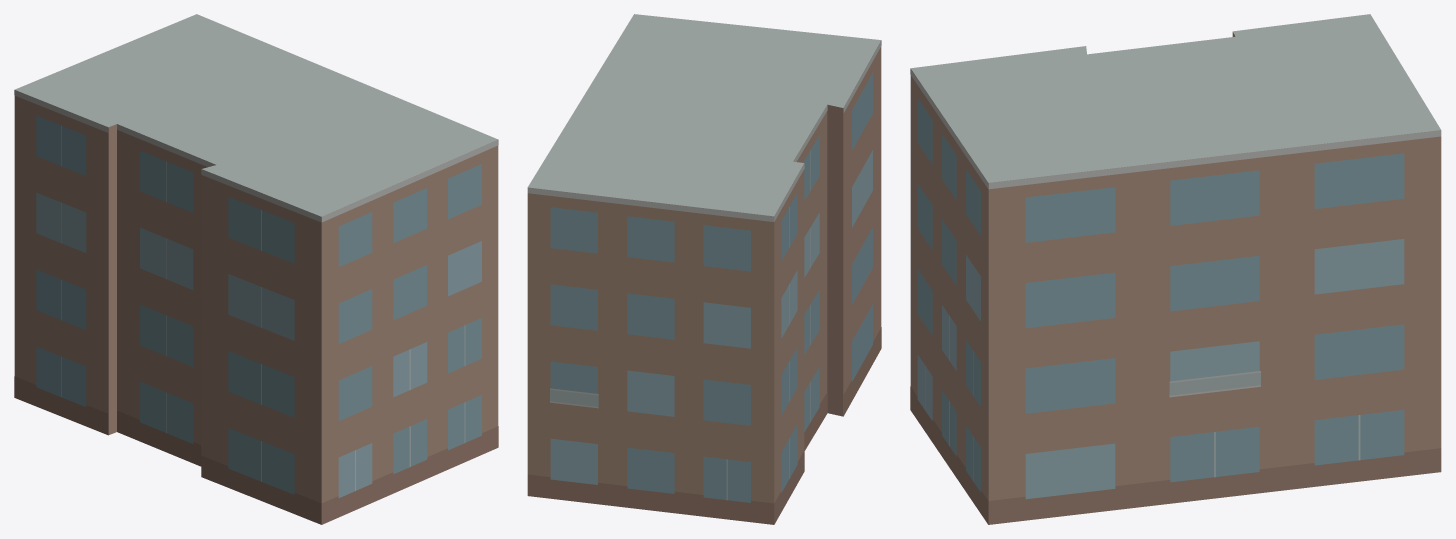
File: survey-upis-32680155.glb
The picture shows the model from 3 angles, left to right: view 1: azimuth 30°, elevation 25°; view 2: azimuth 150°, elevation 25°; view 3: azimuth 270°, elevation 25°; orthographic projection. The views are drawn at different scales.
Visible parts, largest first — view 1: survey-upis-32680155.tmp; view 2: survey-upis-32680155.tmp; view 3: survey-upis-32680155.tmp.
Boxes of the visible parts, left/top/right/bottom form: survey-upis-32680155.tmp: left=14, top=14, right=498, bottom=524; survey-upis-32680155.tmp: left=527, top=14, right=881, bottom=524; survey-upis-32680155.tmp: left=910, top=14, right=1441, bottom=524.
Size of the model in its own units: 13.89 by 13.1 by 18.44.
